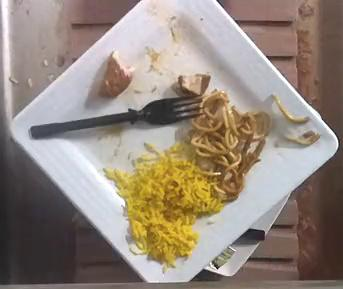asian_noodles: (191, 91, 271, 201)
rice: (104, 142, 222, 266)
